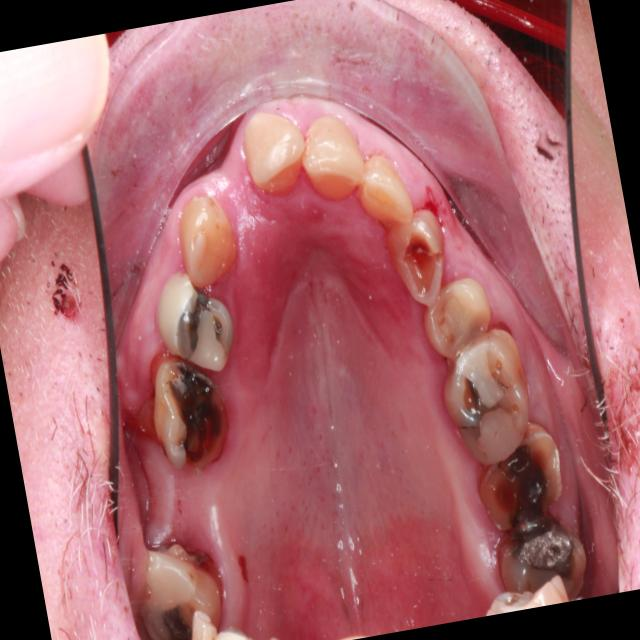tooth: (421, 305, 547, 481), (129, 346, 249, 484), (116, 522, 245, 640), (141, 250, 248, 392), (464, 414, 573, 539), (487, 500, 601, 612), (163, 175, 253, 308), (409, 257, 507, 372), (372, 190, 460, 316), (287, 99, 371, 216), (232, 102, 321, 210), (343, 138, 422, 242)
